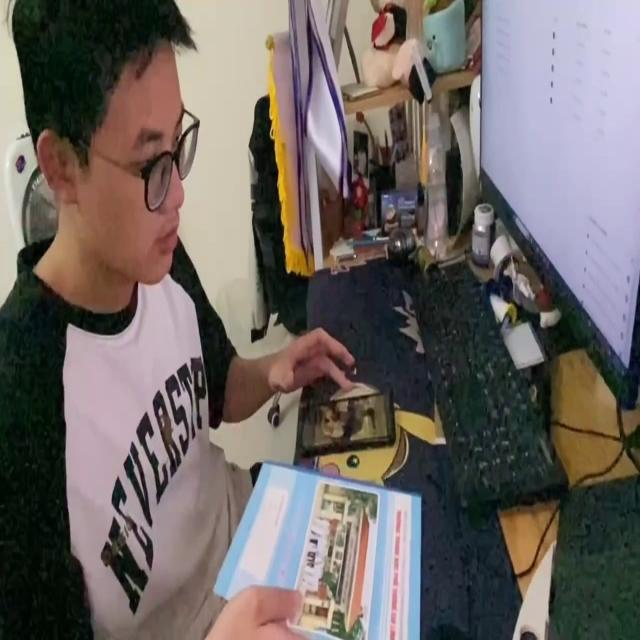book: (212, 459, 422, 640)
laptop: (479, 0, 640, 415)
phone: (298, 384, 397, 452)
student: (6, 0, 356, 640)
